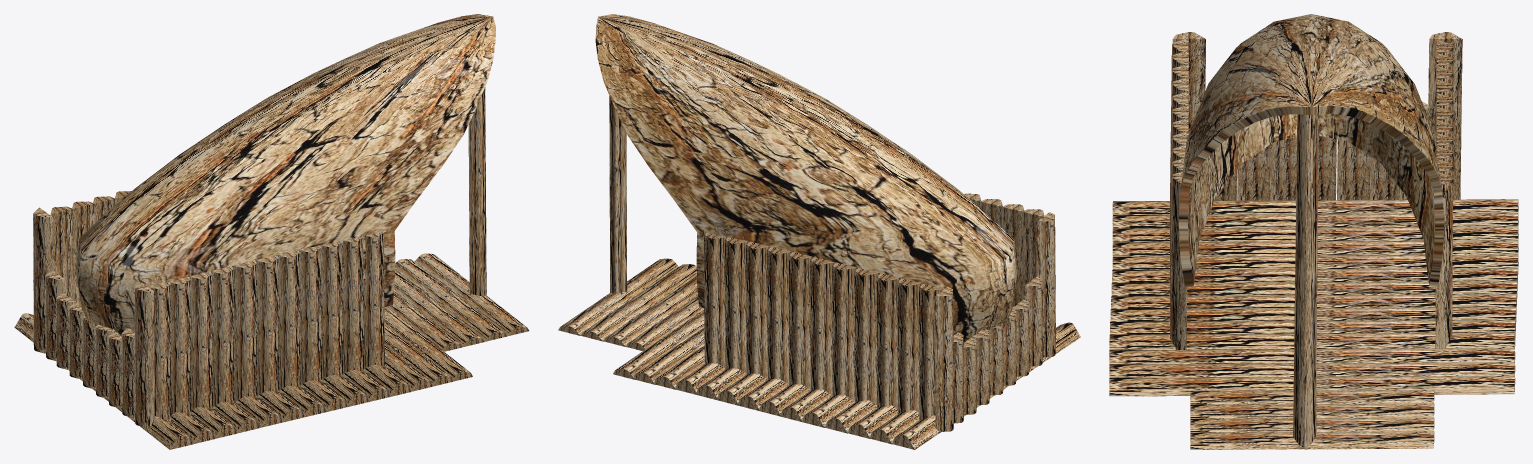
The model's file is cabana campinas.fbx.
3 renders of one model, left to right at view 1: azimuth 30°, elevation 25°; view 2: azimuth 150°, elevation 25°; view 3: azimuth 270°, elevation 25°, orthographic. The views are drawn at different scales.
Visible parts, largest first — view 1: pSphere1, pasted__pasted__pCylinder1, pCylinder1, pasted__pCylinder11, pasted__pCylinder4, pasted__pCylinder3, pasted__pCylinder9, pasted__pCylinder10, pasted__pCylinder8, pasted__pasted__pasted__pCylinder5, pasted__pCylinder7, pasted__pCylinder2 (+30 smaller); view 2: pSphere1, pasted__pasted__pasted__pCylinder1, pasted__pCylinder5, pasted__pasted__pCylinder18, pasted__pasted__pCylinder12, pasted__pasted__pCylinder10, pasted__pasted__pCylinder17, pasted__pasted__pCylinder16, pasted__pasted__pCylinder15, pasted__pasted__pCylinder14, pasted__pasted__pCylinder11, pasted__pasted__pCylinder13 (+30 smaller); view 3: pSphere1, pasted__pasted__pasted__pCylinder9, pasted__pasted__pCylinder24, pasted__pasted__pasted__pCylinder11, pasted__pasted__pasted__pCylinder10, pasted__pasted__pCylinder5, pasted__pasted__pCylinder19, pasted__pasted__pCylinder8, pasted__pasted__pCylinder22, pasted__pasted__pCylinder23, pasted__pasted__pCylinder21, pasted__pCylinder1 (+18 smaller).
Part boxes in pixels (x1=…): pSphere1: x1=75, y1=14, x2=495, y2=335; pasted__pasted__pCylinder1: x1=468, y1=87, x2=486, y2=295; pCylinder1: x1=232, y1=260, x2=257, y2=401; pasted__pCylinder11: x1=255, y1=255, x2=279, y2=395; pasted__pCylinder4: x1=210, y1=266, x2=234, y2=406; pasted__pCylinder3: x1=188, y1=271, x2=212, y2=410; pasted__pCylinder9: x1=297, y1=245, x2=322, y2=384; pasted__pCylinder10: x1=276, y1=250, x2=300, y2=390; pasted__pCylinder8: x1=320, y1=241, x2=343, y2=379; pasted__pasted__pasted__pCylinder5: x1=134, y1=282, x2=154, y2=427; pasted__pCylinder7: x1=342, y1=236, x2=363, y2=374; pasted__pCylinder2: x1=166, y1=277, x2=191, y2=414; pSphere1: x1=595, y1=14, x2=1018, y2=341; pasted__pasted__pasted__pCylinder1: x1=609, y1=96, x2=626, y2=293; pasted__pCylinder5: x1=832, y1=262, x2=856, y2=400; pasted__pasted__pCylinder18: x1=810, y1=256, x2=834, y2=395; pasted__pasted__pCylinder12: x1=854, y1=267, x2=878, y2=404; pasted__pasted__pCylinder10: x1=897, y1=278, x2=920, y2=413; pasted__pasted__pCylinder17: x1=788, y1=251, x2=811, y2=389; pasted__pasted__pCylinder16: x1=767, y1=246, x2=790, y2=384; pasted__pasted__pCylinder15: x1=746, y1=241, x2=770, y2=378; pasted__pasted__pCylinder14: x1=725, y1=237, x2=747, y2=373; pasted__pasted__pCylinder11: x1=876, y1=273, x2=898, y2=408; pasted__pasted__pCylinder13: x1=704, y1=232, x2=725, y2=367; pSphere1: x1=1178, y1=14, x2=1444, y2=286; pasted__pasted__pasted__pCylinder9: x1=1109, y1=375, x2=1515, y2=396; pasted__pasted__pCylinder24: x1=1109, y1=332, x2=1515, y2=356; pasted__pasted__pasted__pCylinder11: x1=1109, y1=348, x2=1515, y2=371; pasted__pasted__pasted__pCylinder10: x1=1109, y1=362, x2=1515, y2=383; pasted__pasted__pCylinder5: x1=1112, y1=240, x2=1518, y2=257; pasted__pasted__pCylinder19: x1=1111, y1=281, x2=1517, y2=300; pasted__pasted__pCylinder8: x1=1112, y1=226, x2=1518, y2=243; pasted__pasted__pCylinder22: x1=1111, y1=294, x2=1516, y2=313; pasted__pasted__pCylinder23: x1=1110, y1=307, x2=1516, y2=328; pasted__pasted__pCylinder21: x1=1110, y1=320, x2=1515, y2=338; pasted__pCylinder1: x1=1112, y1=254, x2=1518, y2=274.
Size of the model in its own units: 6.41 by 4.11 by 4.33.
